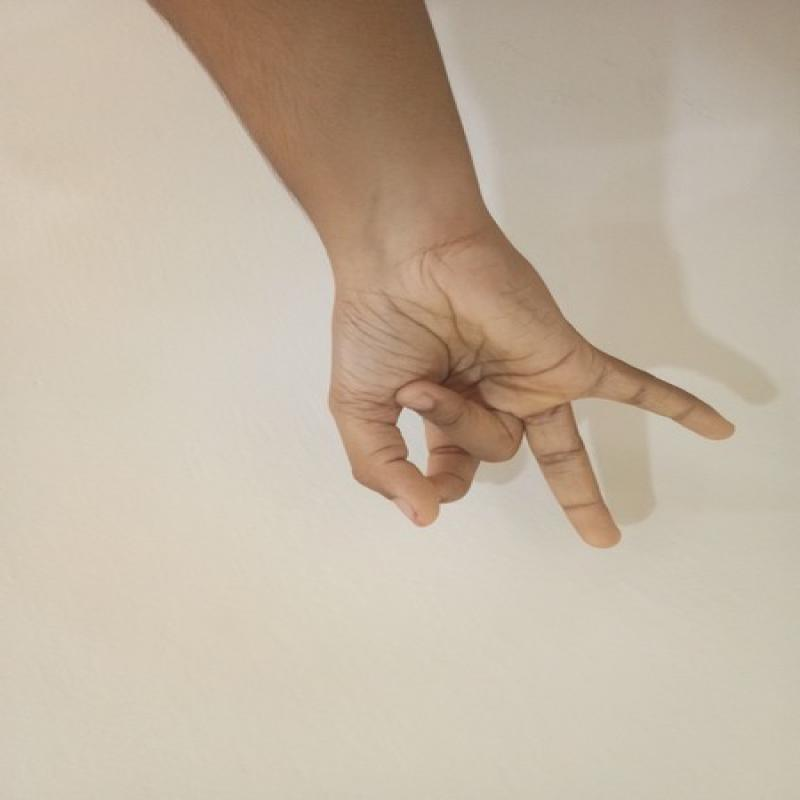Katakam: (298, 242, 744, 572)
